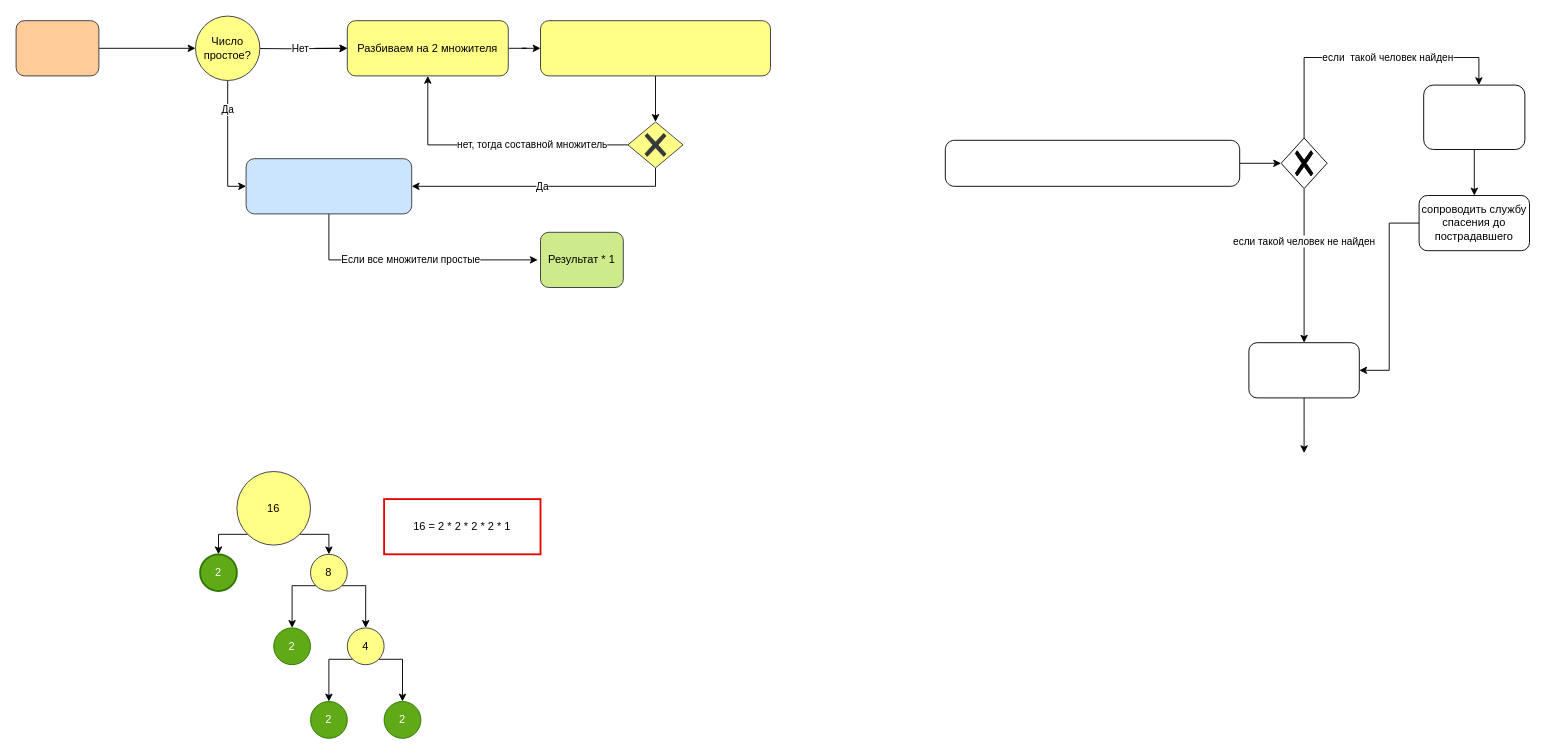
Some shapes in this 1546 by 754 pixel diagram are drawn without their labels. The centre of each missing label's shape, as x and y in pixels:
"встретить службу спасения" goes at [1474,117].
"Добавляем в результат" goes at [328,186].
"найти человека, способного следить за пострадавшим" goes at [1092,162].
"Рассматриваем каждый полученный множитель. Является ли он простым?" goes at [655,48].
"создать условия для работы службы" goes at [1303,370].
"Число" goes at [57,48].
